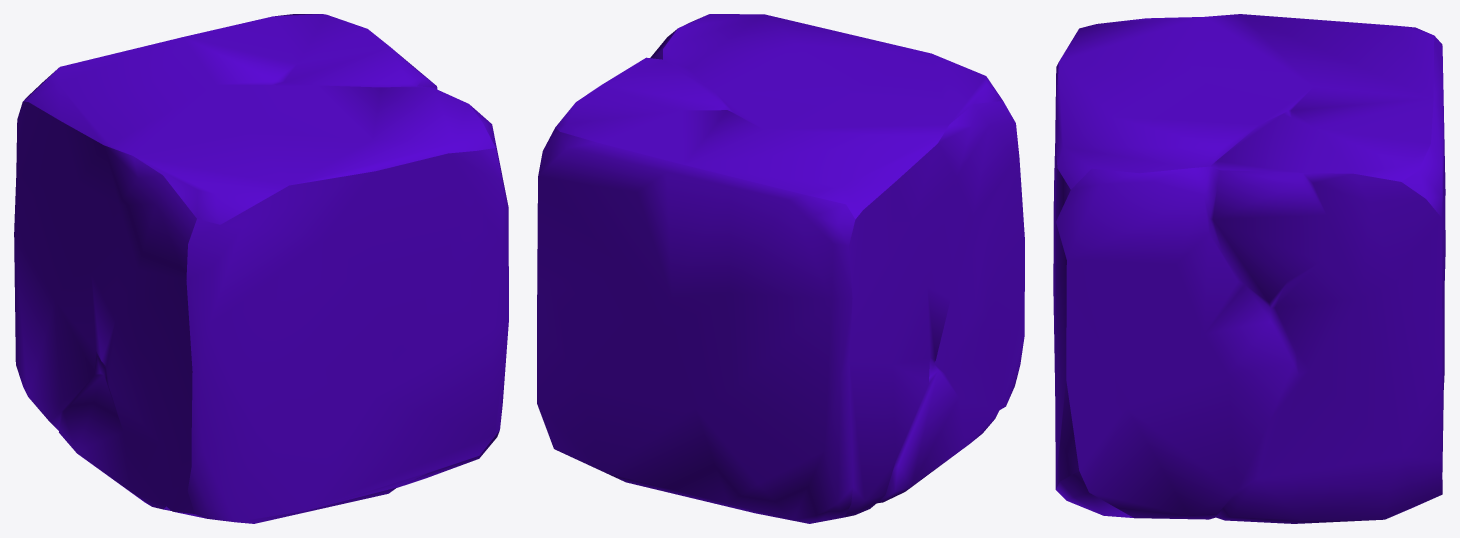
File: cube_stone03.fbx
3 renders of one model, left to right at view 1: azimuth 30°, elevation 25°; view 2: azimuth 150°, elevation 25°; view 3: azimuth 270°, elevation 25°, orthographic. The views are drawn at different scales.
Visible parts, largest first — view 1: cube_stone03; view 2: cube_stone03; view 3: cube_stone03.
Boxes of the visible parts, bbox=[...] form: cube_stone03: bbox=[14, 14, 508, 523]; cube_stone03: bbox=[537, 14, 1024, 523]; cube_stone03: bbox=[1053, 14, 1445, 523].
Bounding box in the file's own units: 1.33 × 1.33 × 1.33.
